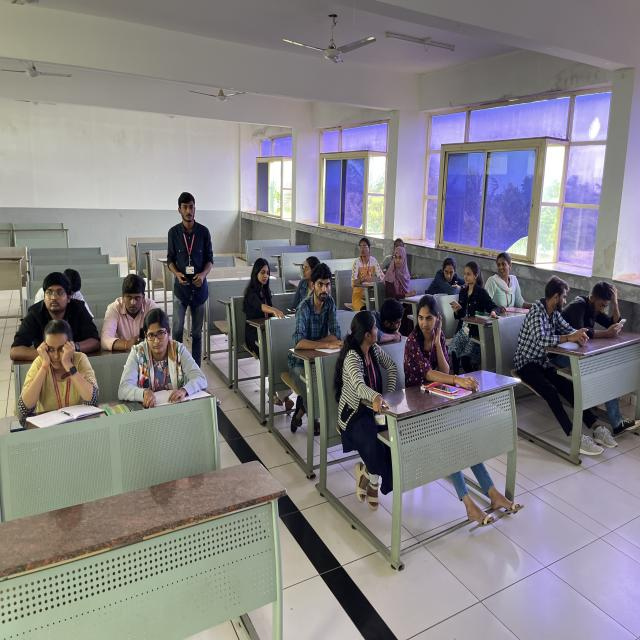Using Phone: (94, 261, 154, 349), (570, 274, 629, 340), (448, 258, 496, 332)
